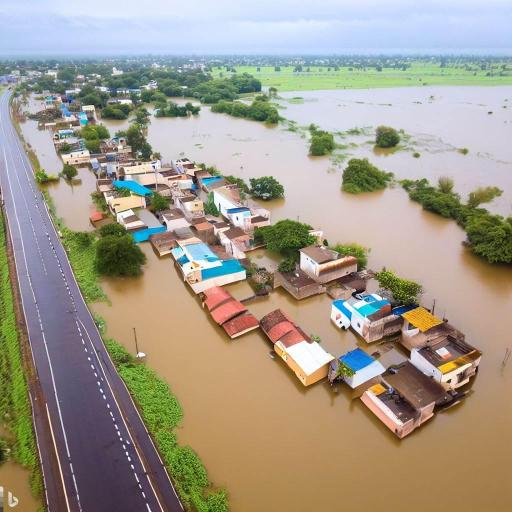flood: (90, 86, 512, 512), (246, 287, 410, 368), (42, 168, 95, 230), (16, 119, 62, 174), (0, 460, 40, 512), (246, 248, 283, 272), (224, 280, 256, 300), (100, 121, 127, 134), (22, 96, 42, 111)
house: (261, 306, 335, 390), (406, 332, 482, 392), (359, 383, 437, 439), (199, 284, 260, 342), (336, 289, 400, 339), (294, 243, 359, 283), (334, 348, 388, 394), (184, 259, 248, 294), (110, 207, 166, 243), (212, 183, 252, 223), (58, 148, 94, 168), (225, 226, 251, 248)
